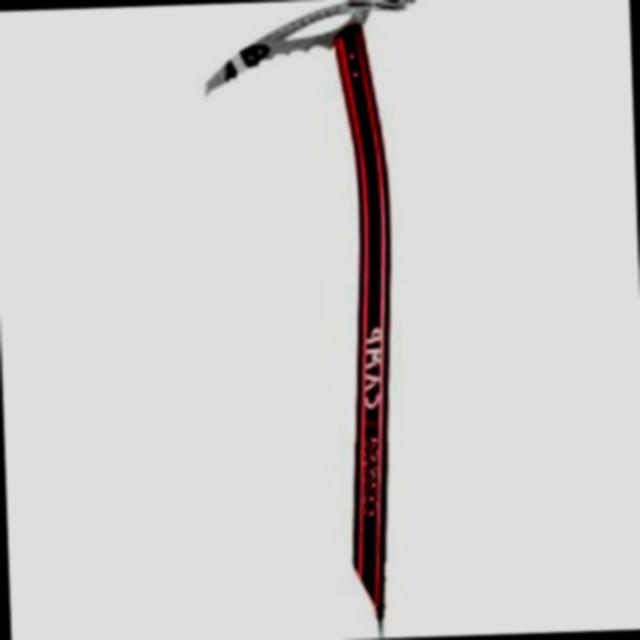ax: (190, 0, 454, 640)
